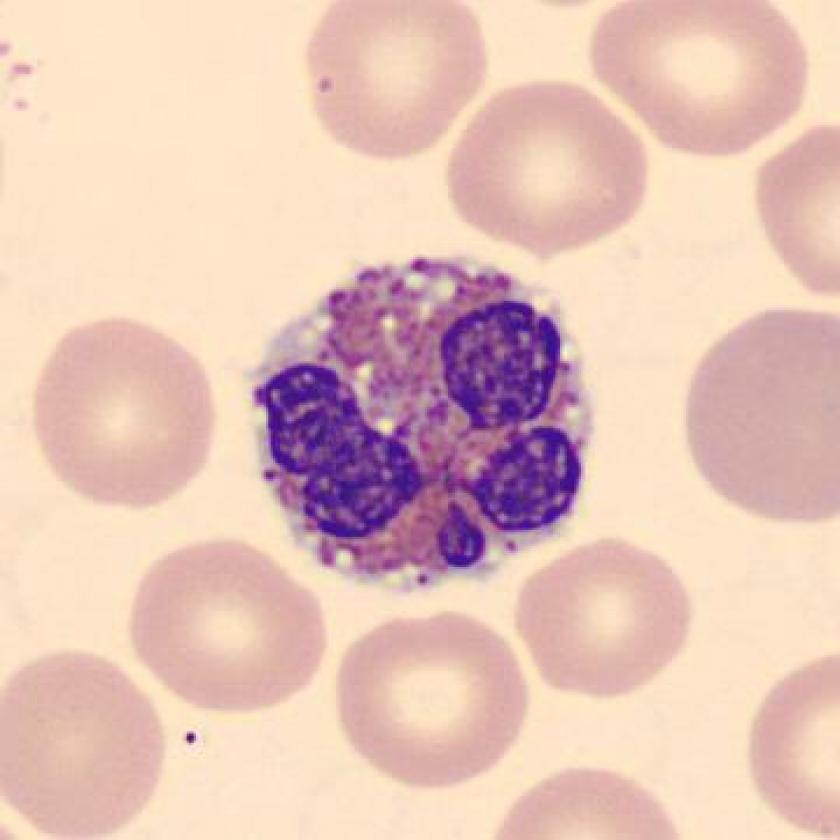eosinophil: (237, 247, 610, 608)
